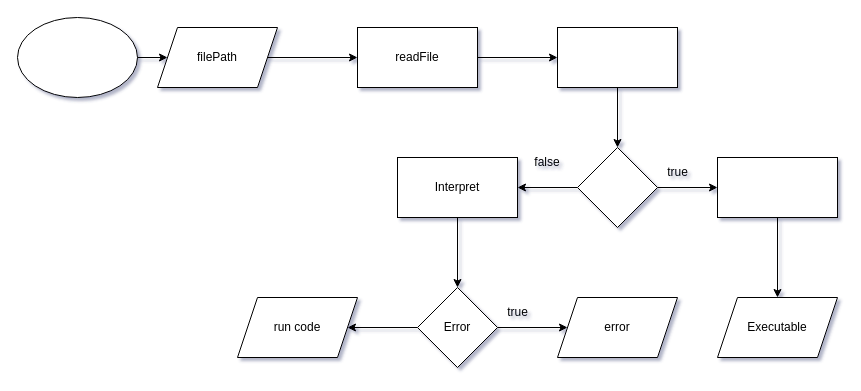
Image size: 861x391. Some labels were removed from this diagram. Each missing label, with the centre of its shape:
"build" belongs at (617,187).
"Lexer" belongs at (617,57).
"LLVM" belongs at (777,187).
"Start" belongs at (77,57).
